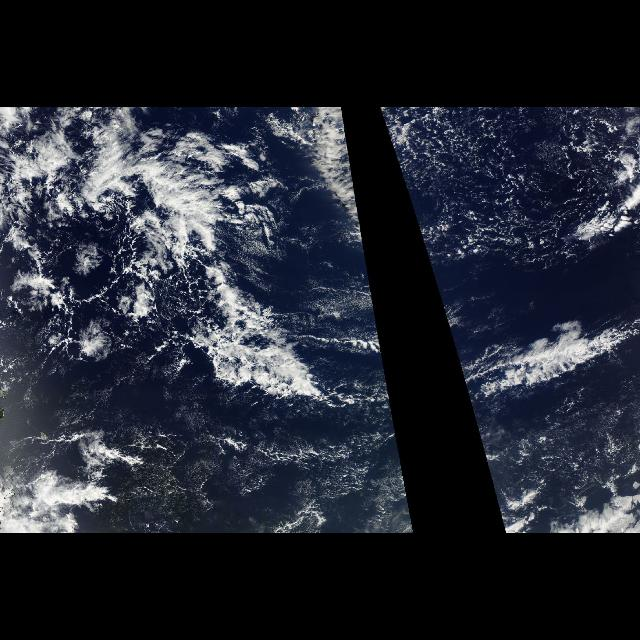Fish: (181, 270, 397, 442), (432, 270, 630, 442)
Gravel: (4, 109, 220, 369), (408, 113, 640, 264)
